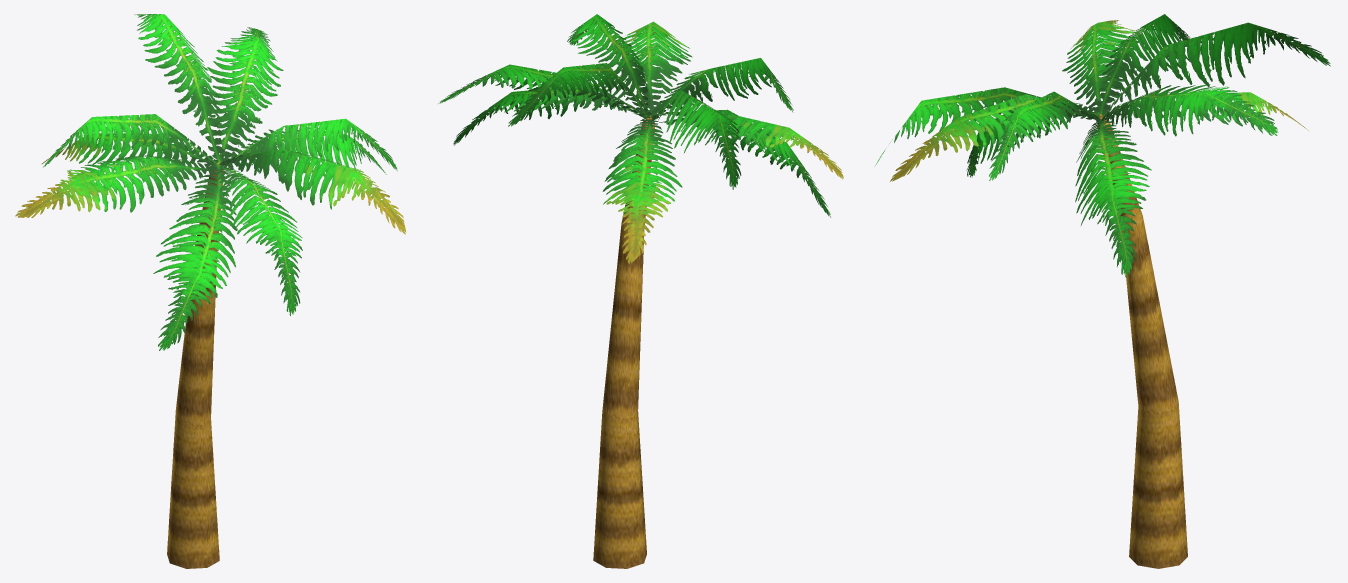
File: palm02.obj
The picture shows the model from 3 angles, left to right: view 1: azimuth 30°, elevation 25°; view 2: azimuth 150°, elevation 25°; view 3: azimuth 270°, elevation 25°; orthographic projection. The views are drawn at different scales.
Visible parts, largest first — view 1: Duplicate10, Cylinder01, Duplicate04, Duplicate09, Duplicate03, Triangles, Duplicate07; view 2: Cylinder01, Duplicate09, Duplicate03, Duplicate04, Duplicate10, Duplicate07, Triangles; view 3: Cylinder01, Duplicate04, Duplicate07, Duplicate03, Duplicate10, Duplicate09, Triangles.
Boxes of the visible parts, x1=… form: Duplicate10: x1=153, y1=27, x2=283, y2=350; Cylinder01: x1=167, y1=162, x2=223, y2=568; Duplicate04: x1=134, y1=14, x2=302, y2=315; Duplicate09: x1=41, y1=133, x2=406, y2=234; Duplicate03: x1=43, y1=114, x2=397, y2=170; Triangles: x1=15, y1=155, x2=214, y2=217; Duplicate07: x1=222, y1=127, x2=386, y2=180; Cylinder01: x1=593, y1=116, x2=654, y2=568; Duplicate09: x1=602, y1=21, x2=692, y2=264; Duplicate03: x1=567, y1=14, x2=741, y2=189; Duplicate04: x1=508, y1=58, x2=793, y2=126; Duplicate10: x1=438, y1=64, x2=830, y2=217; Duplicate07: x1=453, y1=85, x2=645, y2=145; Triangles: x1=657, y1=111, x2=843, y2=179; Cylinder01: x1=1097, y1=113, x2=1187, y2=568; Duplicate04: x1=875, y1=22, x2=1330, y2=165; Duplicate07: x1=1075, y1=118, x2=1151, y2=277; Duplicate03: x1=989, y1=14, x2=1200, y2=180; Duplicate10: x1=966, y1=84, x2=1278, y2=177; Duplicate09: x1=890, y1=92, x2=1308, y2=181; Triangles: x1=1062, y1=20, x2=1138, y2=121.
Bounding box in the file's own units: 59.36 × 76 × 58.66.
